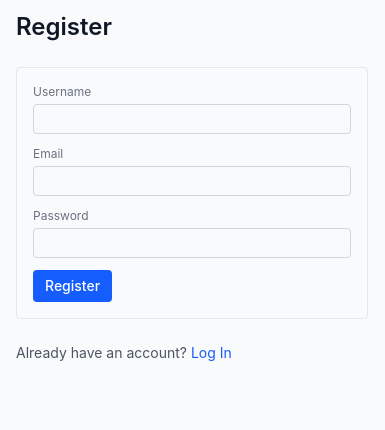
it: RegisterPage › rejects a password that is too short
In the field labelled "Username": coordinates (192, 119) [33,104,351,134], type "alice"
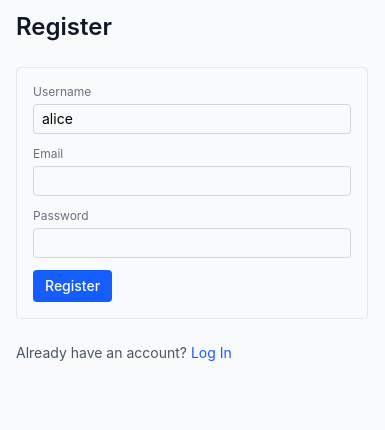
In the field labelled "Email": coordinates (192, 181) [33,166,351,196], type "alice@example.com"
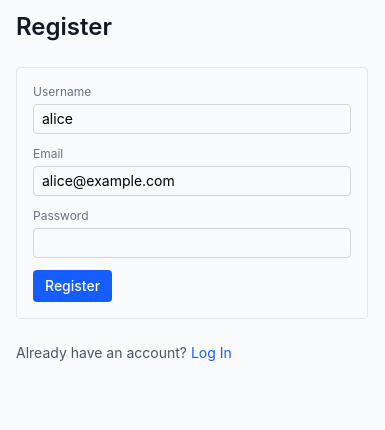
In the password field labelled "Password": coordinates (192, 243) [33,228,351,258], type "short"
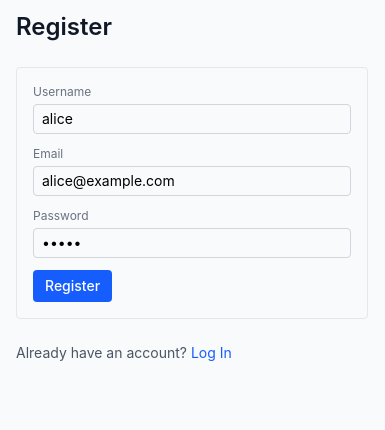
Click the button "Register": coordinates (73, 286) [33,270,112,302]
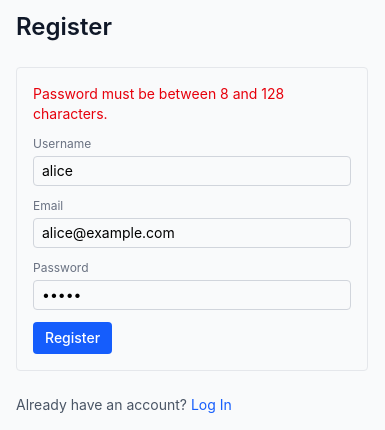
Check: the text "Password must be between 8 and 128 characters." is shown, box [33,85,284,122]
